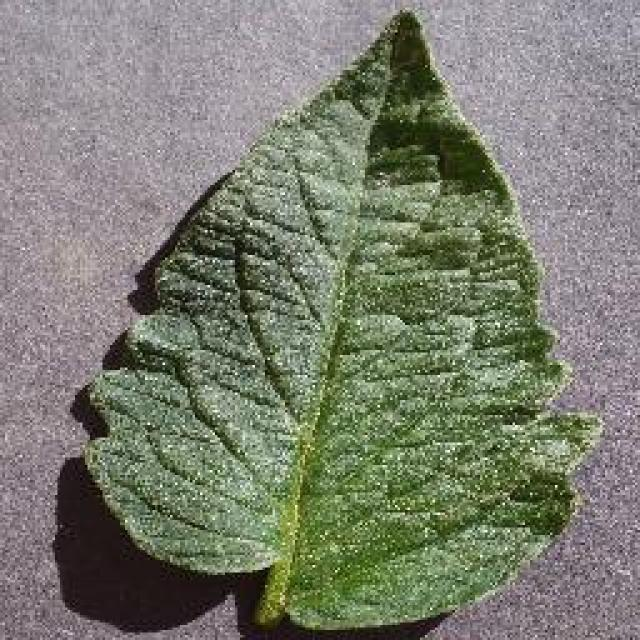Tomato healthy leaf: (88, 15, 578, 623)
